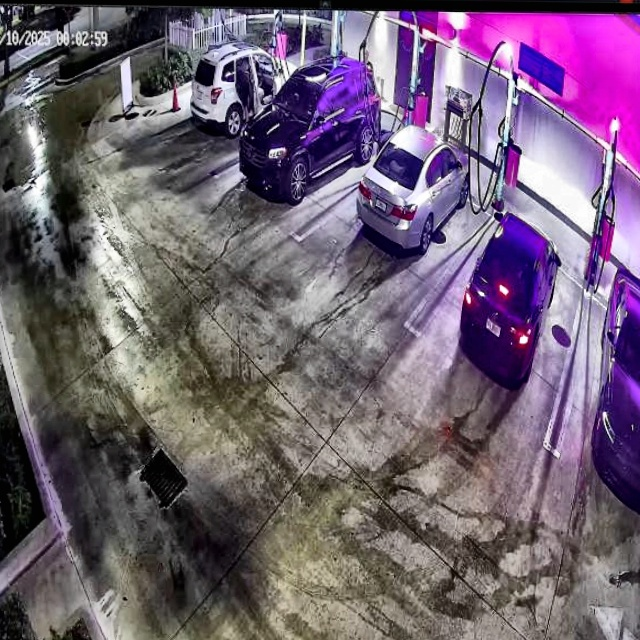Car: (241, 57, 380, 206), (462, 212, 560, 388), (356, 125, 471, 252)
